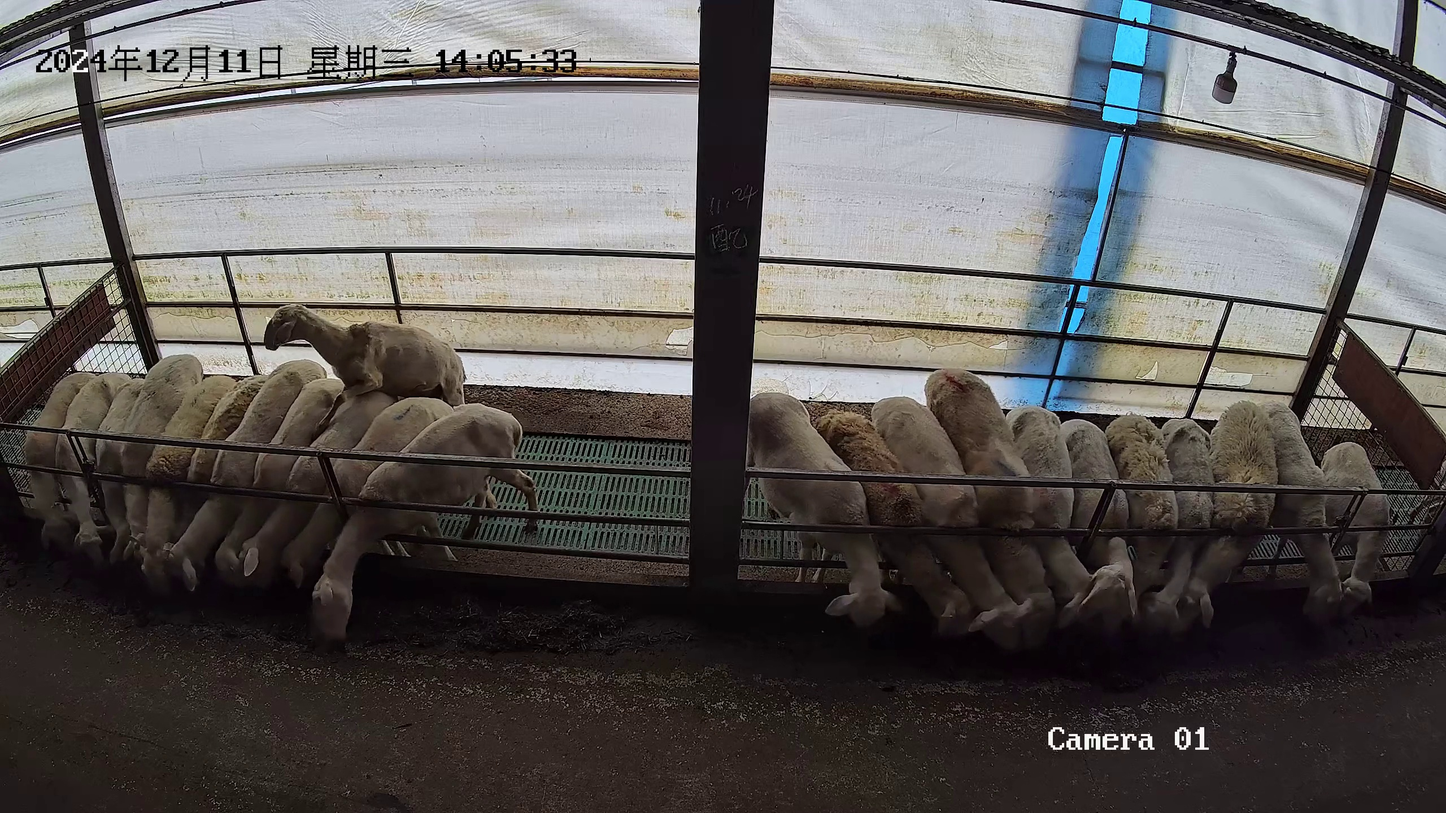Nmounting: (263, 303, 468, 567)
